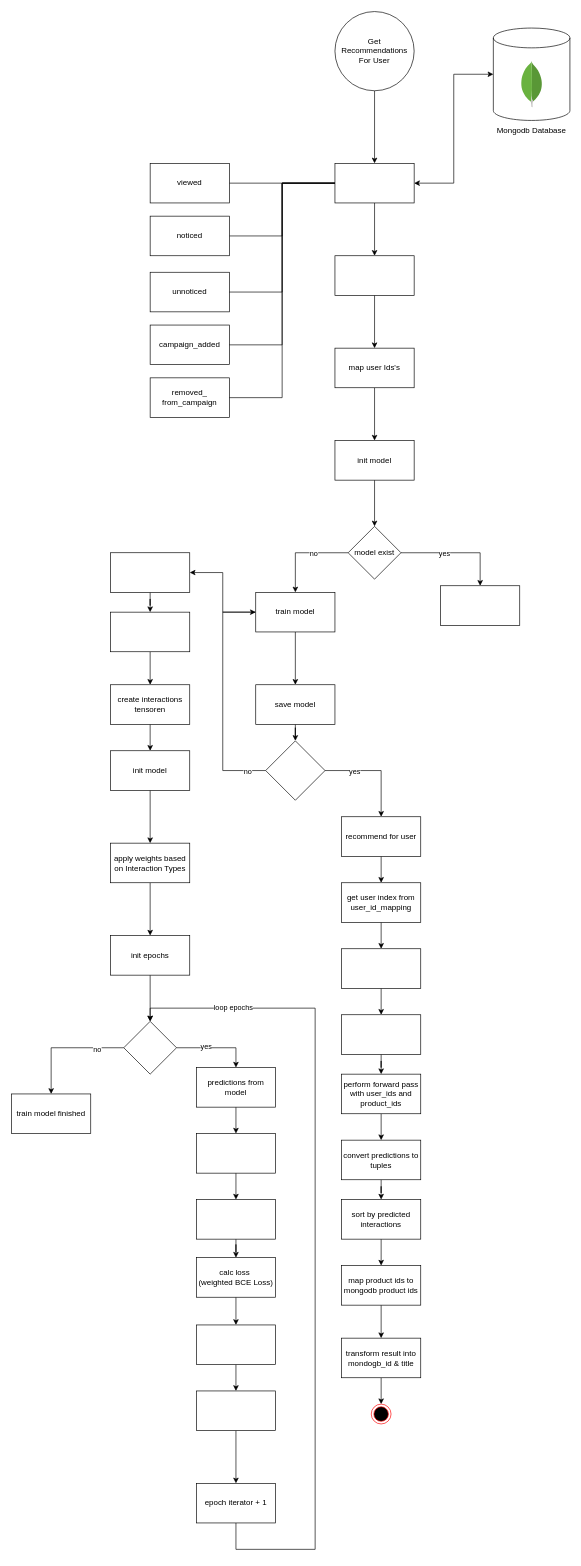
The diagram is 581 pixels wide and 1566 high, and some of its shapes have lost their labels. Each missing label, with the centre of its shape:
backward pass (calculate gradients): [236,1344]
create product_ids_tensors: [150,631]
create user_ids tensor: [150,572]
epochs left: [150,1047]
get product_ids: [381,968]
get user product interactions with weights: [374,183]
init optimizer Adam with LR 0.001: [236,1153]
is in user_id mapping: [295,770]
load model, num_users_ num_products: [480,605]
map product ids: [374,275]
switch modal to evalueation mode: [381,1034]
update weights (optimizer step): [236,1410]
zero gradient accumulator: [236,1219]
